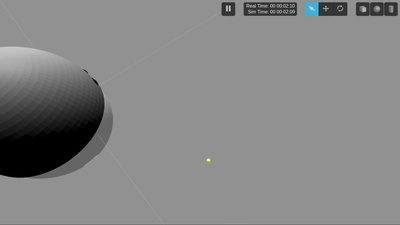mira_robot: (1, 46, 114, 181)
